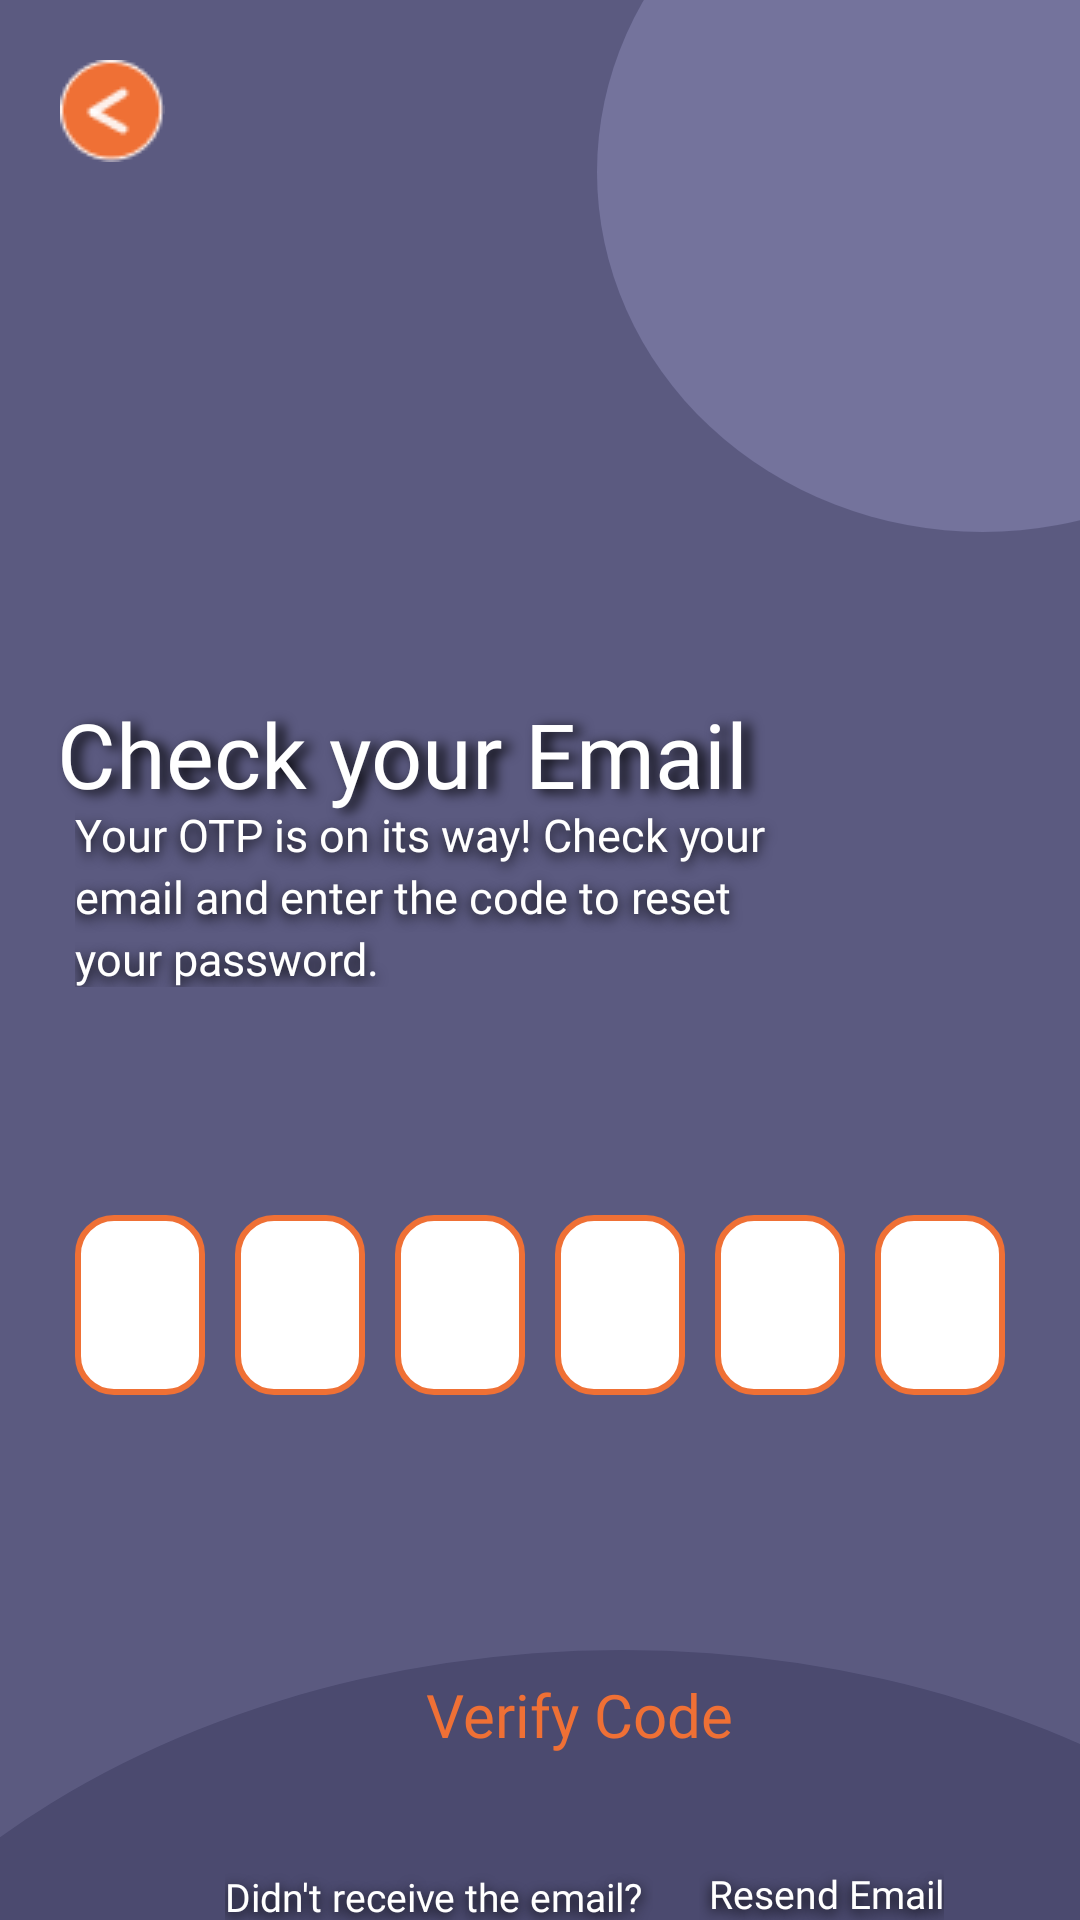

Icon click points for this 1080px x 1920px phone screenshot, format [x,y]:
back: [111,111]
